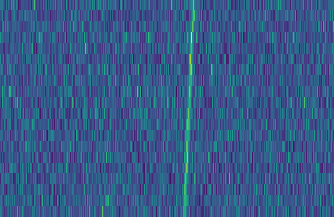signal: (179, 0, 198, 217)
